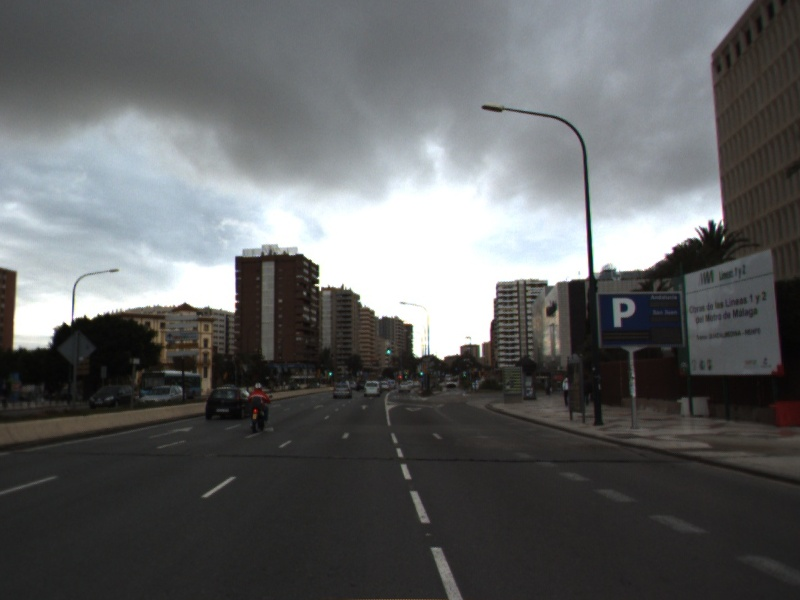STRAIGHT: (146, 425, 195, 441), (241, 425, 275, 441)
